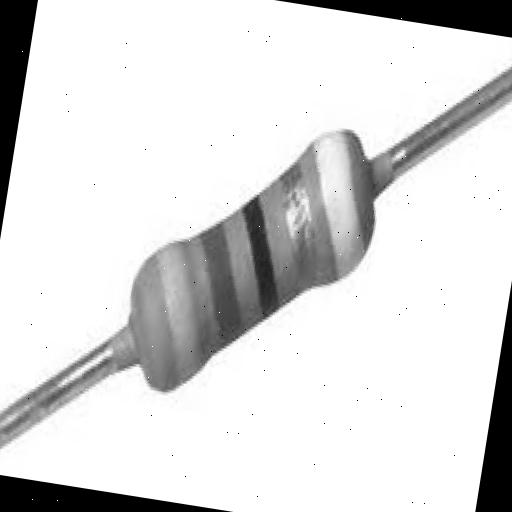RESISTOR: (39, 75, 421, 445)
